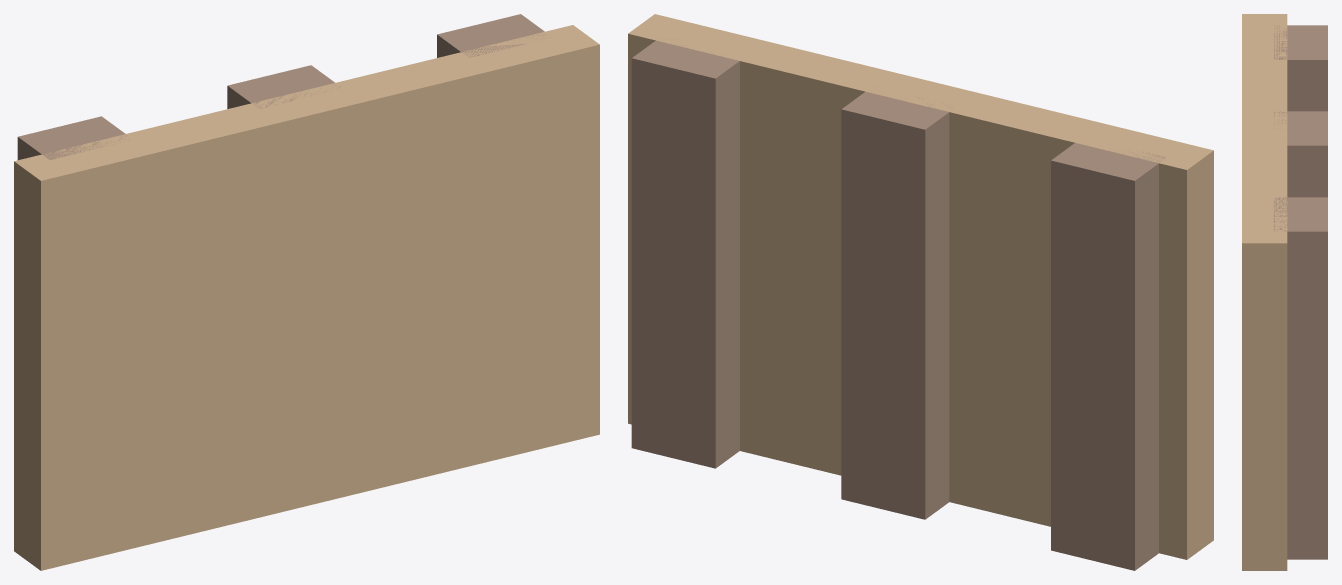
File: pallet.glb
The picture shows the model from 3 angles, left to right: view 1: azimuth 30°, elevation 25°; view 2: azimuth 150°, elevation 25°; view 3: azimuth 270°, elevation 25°; orthographic projection. The views are drawn at different scales.
Parts seen in each view (by area): view 1: deck_0, runner_1, runner_3, runner_2; view 2: deck_0, runner_2, runner_3, runner_1; view 3: deck_0, runner_3, runner_1, runner_2.
Part boxes in pixels (box(x1,y1,x2,y2)): deck_0: box(14, 25, 599, 570); runner_1: box(17, 116, 128, 160); runner_3: box(437, 14, 550, 57); runner_2: box(227, 65, 340, 108); deck_0: box(628, 14, 1213, 559); runner_2: box(841, 87, 950, 519); runner_3: box(631, 39, 739, 468); runner_1: box(1051, 143, 1166, 570); deck_0: box(1242, 14, 1287, 570); runner_3: box(1273, 197, 1327, 559); runner_1: box(1274, 25, 1327, 111); runner_2: box(1273, 111, 1327, 197).
Bounding box in the file's own units: 1.2 × 0.8 × 0.19.
